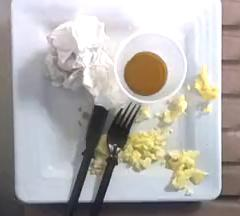scrambled_eggs: (121, 128, 164, 170), (164, 149, 204, 188), (187, 68, 218, 112), (161, 96, 188, 125)
